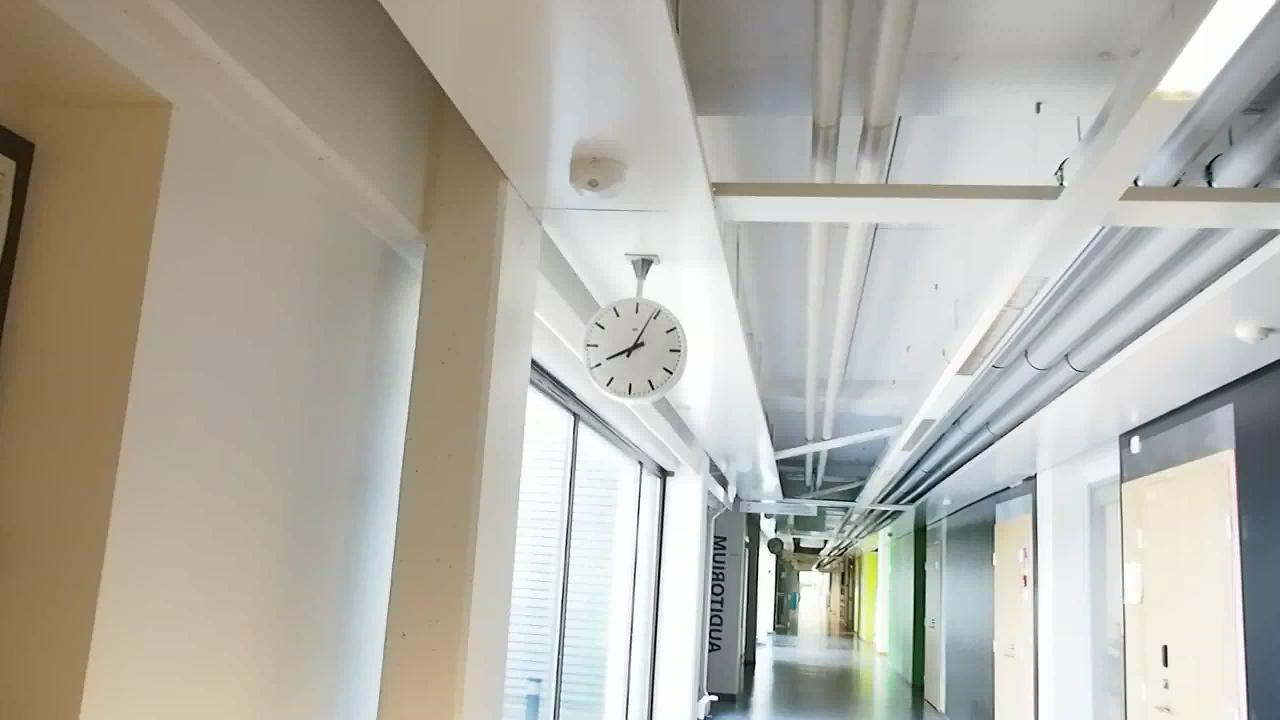clock: (574, 293, 691, 405)
